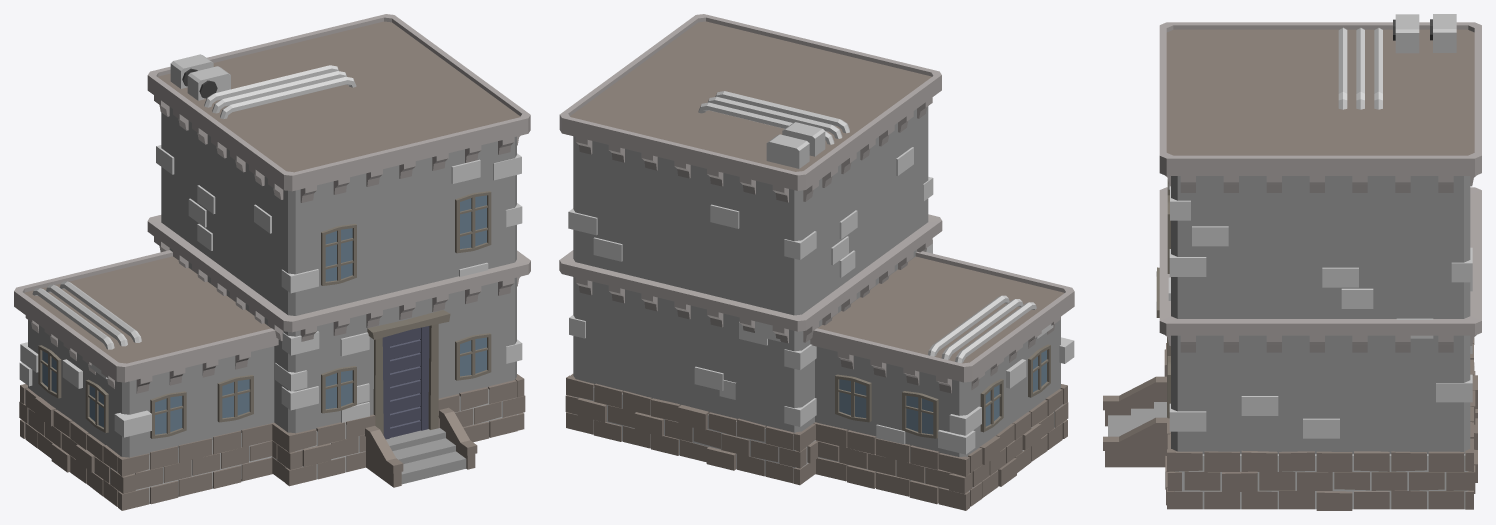
The model's file is quat_2story_sidehouse.glb.
3 renders of one model, left to right at view 1: azimuth 30°, elevation 25°; view 2: azimuth 150°, elevation 25°; view 3: azimuth 270°, elevation 25°, orthographic. The views are drawn at different scales.
Parts seen in each view (by area): view 1: 2Story_Sidehouse_Cube.015; view 2: 2Story_Sidehouse_Cube.015; view 3: 2Story_Sidehouse_Cube.015.
Boxes of the visible parts, bbox=[...] form: 2Story_Sidehouse_Cube.015: bbox=[14, 14, 530, 510]; 2Story_Sidehouse_Cube.015: bbox=[559, 14, 1074, 510]; 2Story_Sidehouse_Cube.015: bbox=[1103, 14, 1481, 510].
Size of the model in its own units: 3.47 by 2.76 by 2.53.
1 material, 1 textured.
